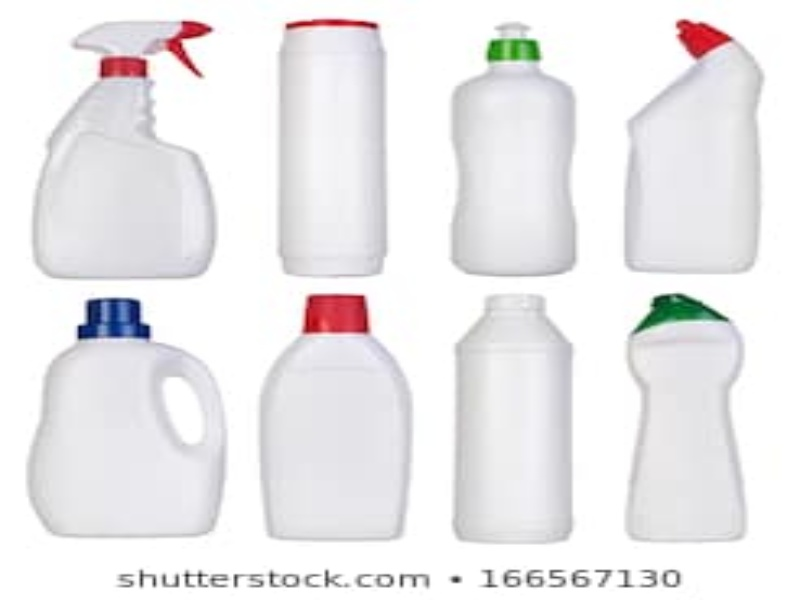detergent-bottle: (27, 17, 229, 277), (24, 293, 229, 541), (256, 290, 416, 543), (616, 15, 771, 276), (445, 16, 589, 280), (448, 290, 581, 544), (620, 291, 750, 548), (274, 11, 395, 282)
